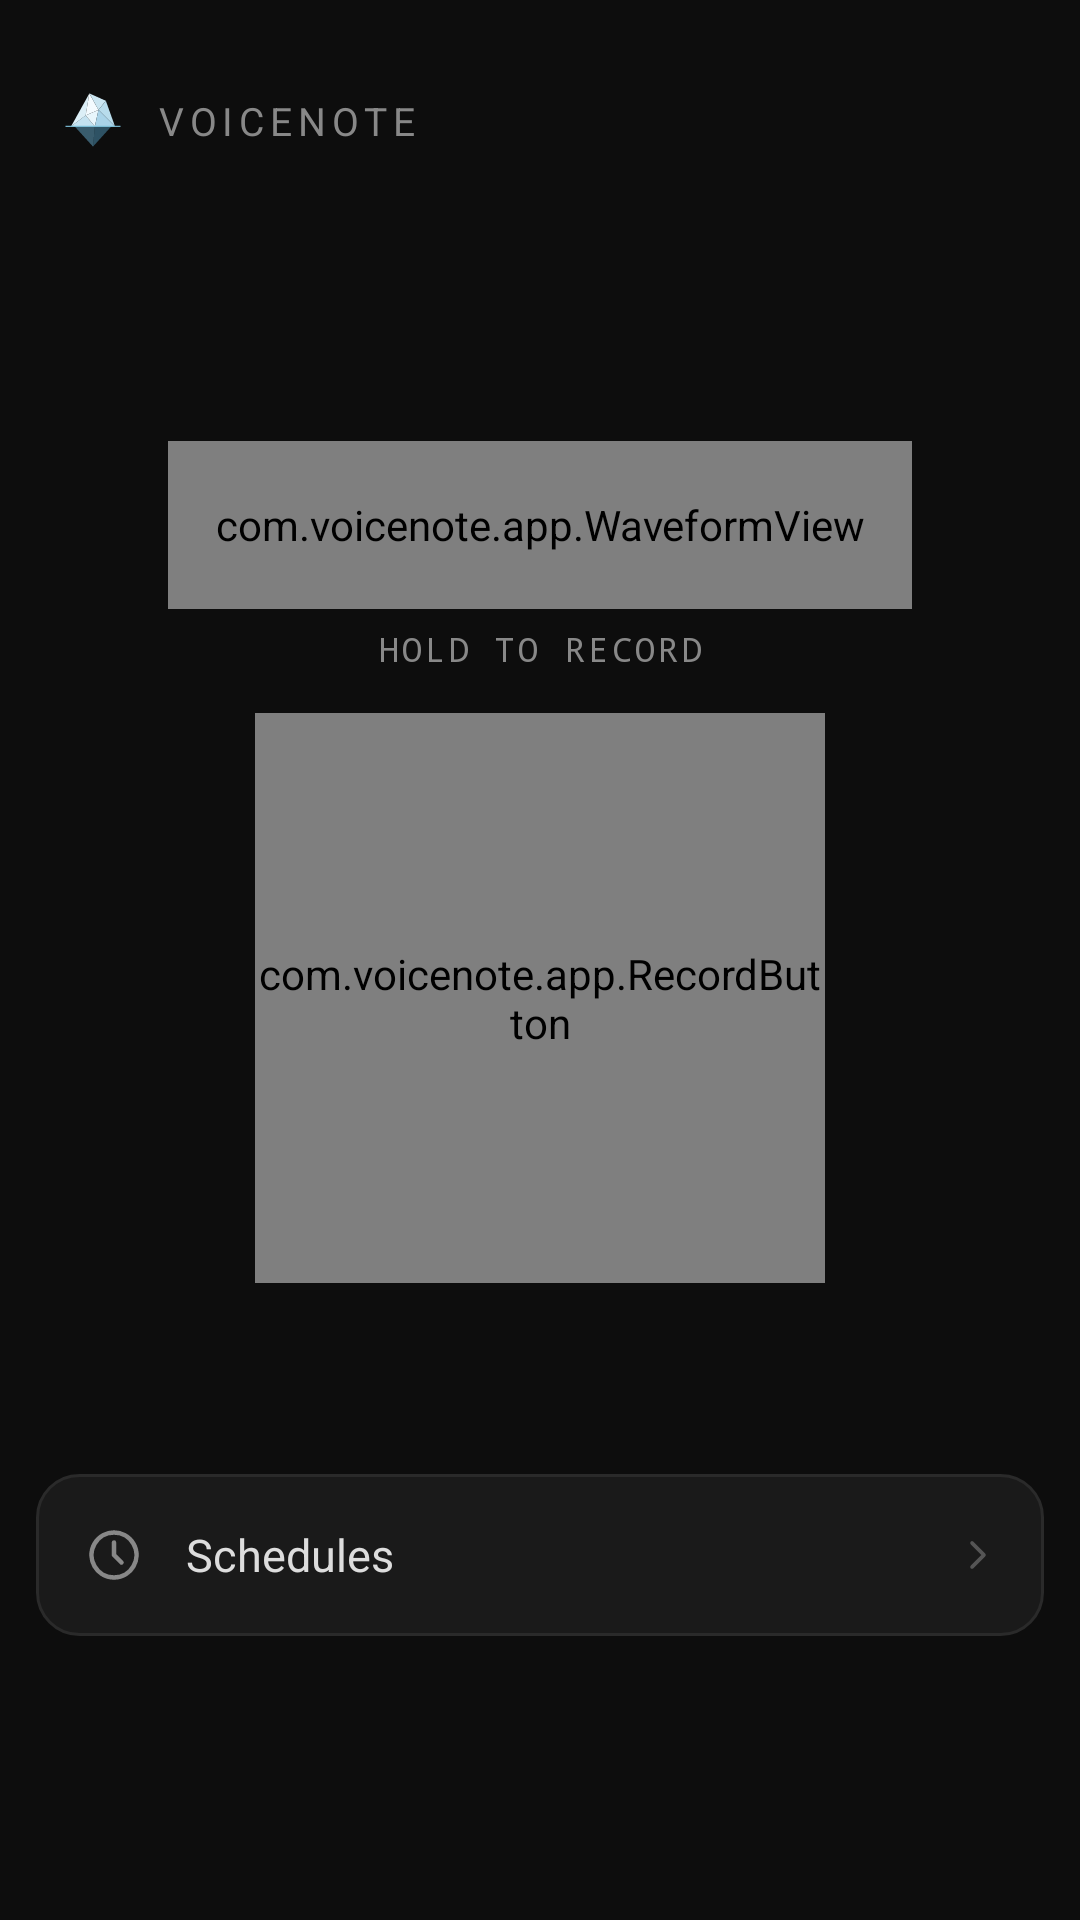

Icon bounding boxes for this 1080×1920 phone screenshot, format (x1, y1, x2, y2):
frosty: (65, 93, 121, 146)
row schedule: (89, 1530, 139, 1580)
